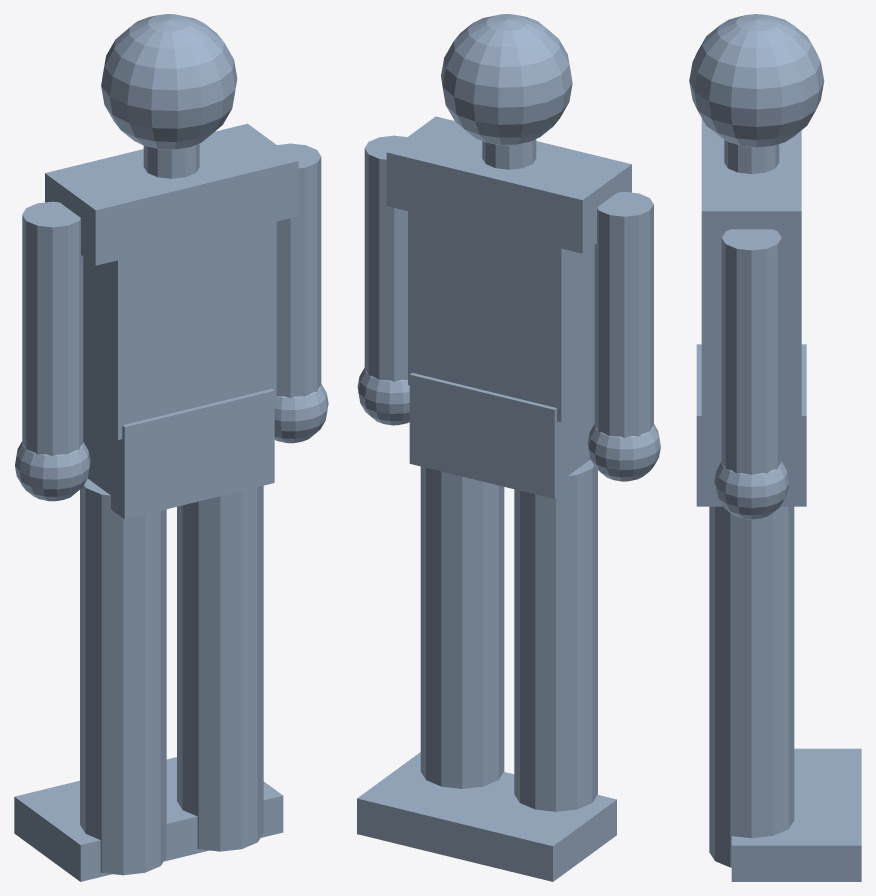
File: SM_SimBody_Base.fbx
3 views of the same model, side by side, from view 1: azimuth 30°, elevation 25°; view 2: azimuth 150°, elevation 25°; view 3: azimuth 270°, elevation 25° (orthographic). The views are drawn at different scales.
Visible parts, largest first — view 1: SM_SimBody_Export; view 2: SM_SimBody_Export; view 3: SM_SimBody_Export.
Part boxes in pixels (x1=…): SM_SimBody_Export: x1=14, y1=14, x2=328, y2=881; SM_SimBody_Export: x1=357, y1=14, x2=660, y2=881; SM_SimBody_Export: x1=689, y1=14, x2=861, y2=881.
Bounding box in the file's own units: 34.5 × 69 × 179.
